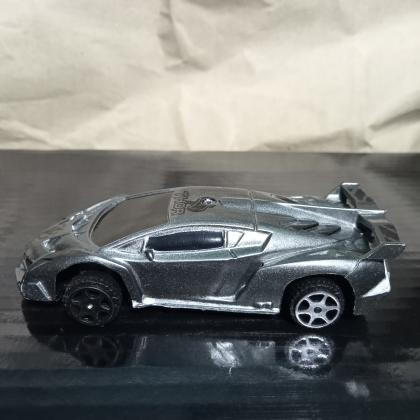Car: (15, 182, 406, 331)
